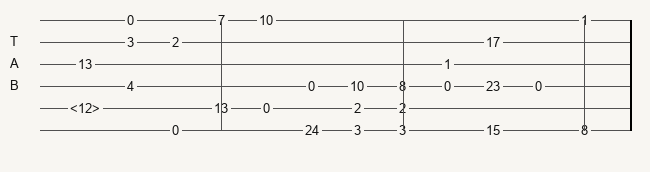0: (127, 13, 138, 27), (172, 123, 183, 137), (263, 101, 274, 115), (308, 79, 319, 93), (444, 79, 455, 93), (535, 79, 546, 93)
1: (444, 57, 455, 71), (581, 13, 592, 27)
10: (259, 13, 277, 27), (350, 79, 368, 93)
13: (78, 57, 96, 71), (214, 101, 232, 115)
15: (486, 123, 504, 137)
17: (486, 35, 504, 49)
2: (172, 35, 183, 49), (354, 101, 365, 115), (399, 101, 410, 115)
23: (486, 79, 504, 93)
24: (305, 123, 323, 137)
3: (127, 35, 138, 49), (354, 123, 365, 137), (399, 123, 410, 137)
4: (127, 79, 138, 93)
7: (218, 13, 229, 27)
8: (399, 79, 410, 93), (581, 123, 592, 137)
harmonic: (70, 101, 104, 115)
